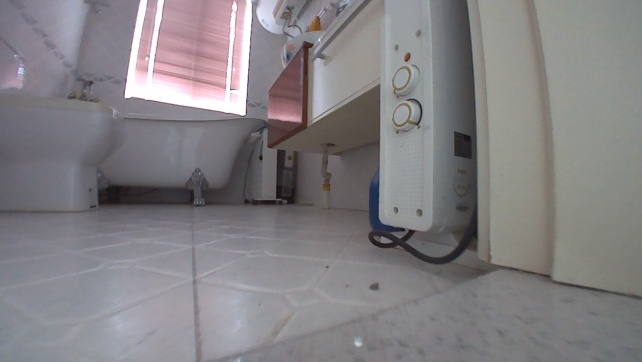toilet: (0, 90, 120, 215)
wire: (365, 209, 478, 266)
